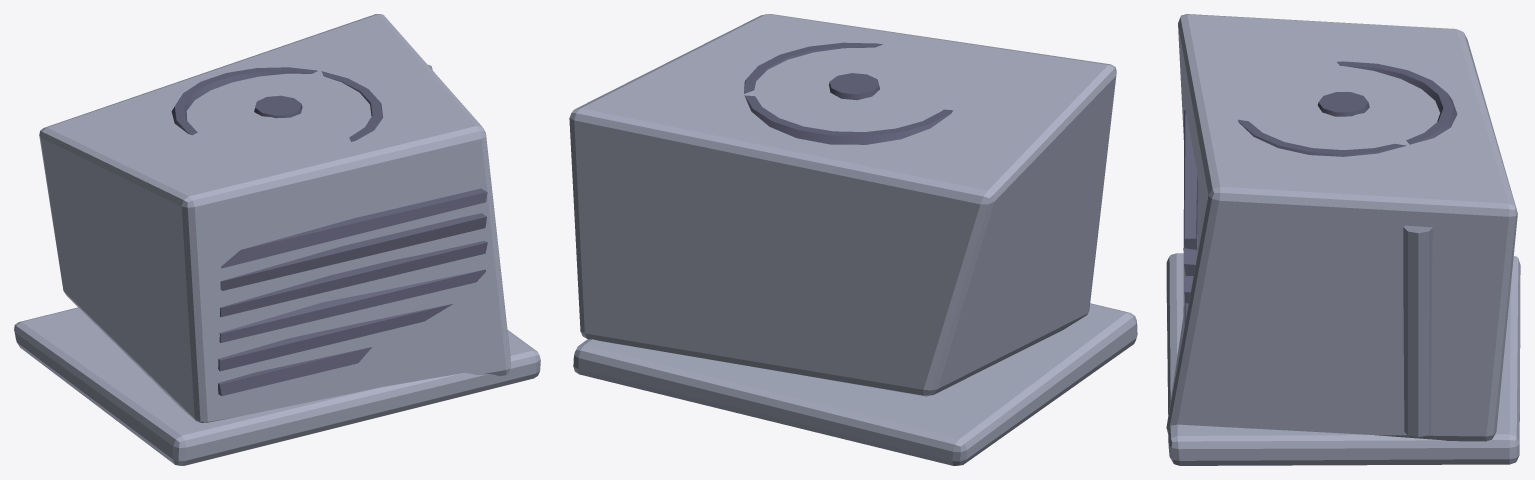
File: ac_unit.glb
3 renders of one model, left to right at view 1: azimuth 30°, elevation 25°; view 2: azimuth 150°, elevation 25°; view 3: azimuth 270°, elevation 25°, orthographic. The views are drawn at different scales.
Visible parts, largest first — view 1: body, grille, fan; view 2: body, fan; view 3: body, pipe, fan, grille.
Part boxes in pixels (bbox=[...]): body: bbox=[14, 14, 540, 465]; grille: bbox=[218, 188, 487, 395]; fan: bbox=[171, 67, 382, 141]; body: bbox=[569, 14, 1137, 465]; fan: bbox=[744, 42, 953, 144]; body: bbox=[1166, 14, 1520, 465]; pipe: bbox=[1403, 225, 1432, 436]; fan: bbox=[1238, 61, 1457, 156]; grille: bbox=[1183, 110, 1197, 329].
Size of the model in its own units: 1.82 by 1.22 by 1.42.
